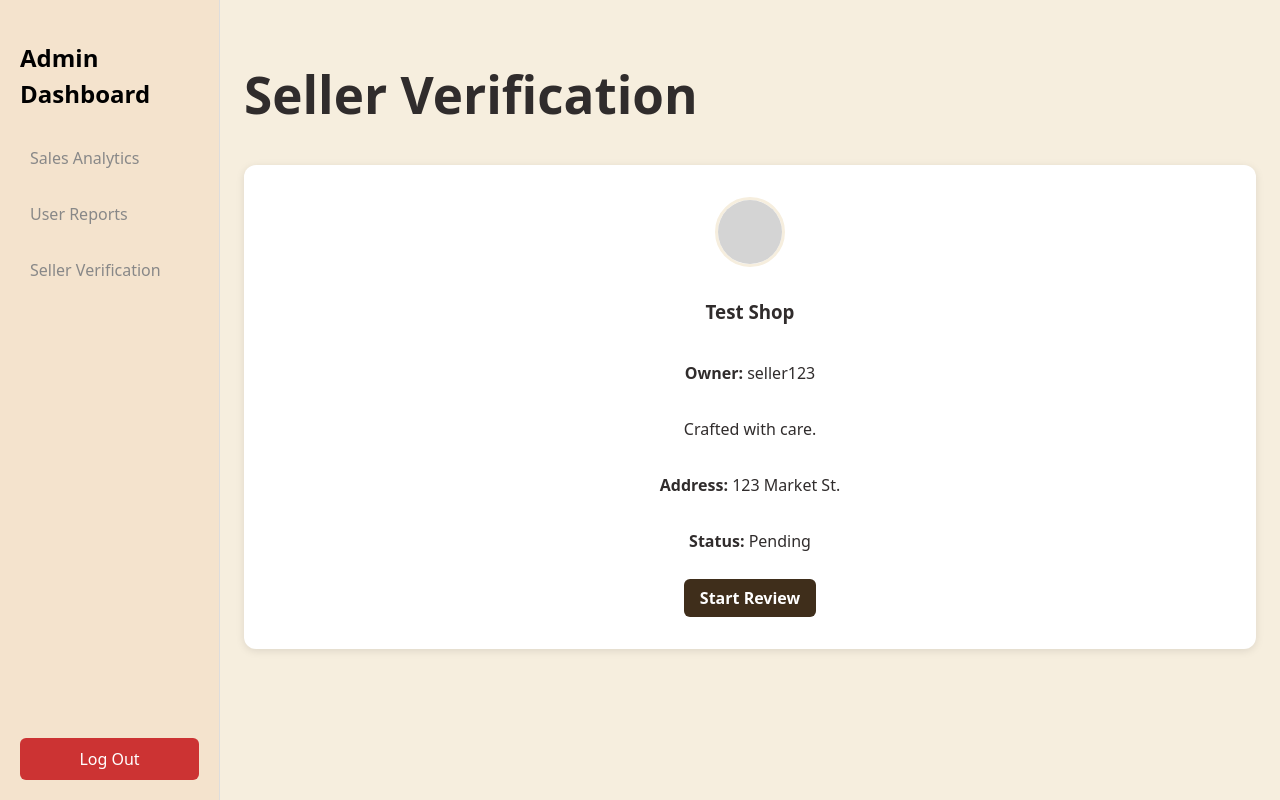
it: when you press the Start Review button, it shows Approve and Reject buttons
# Wait for seller card to appear and click the button
Click the button "Start Review".
click(750, 598)  # box [684,579,816,617]
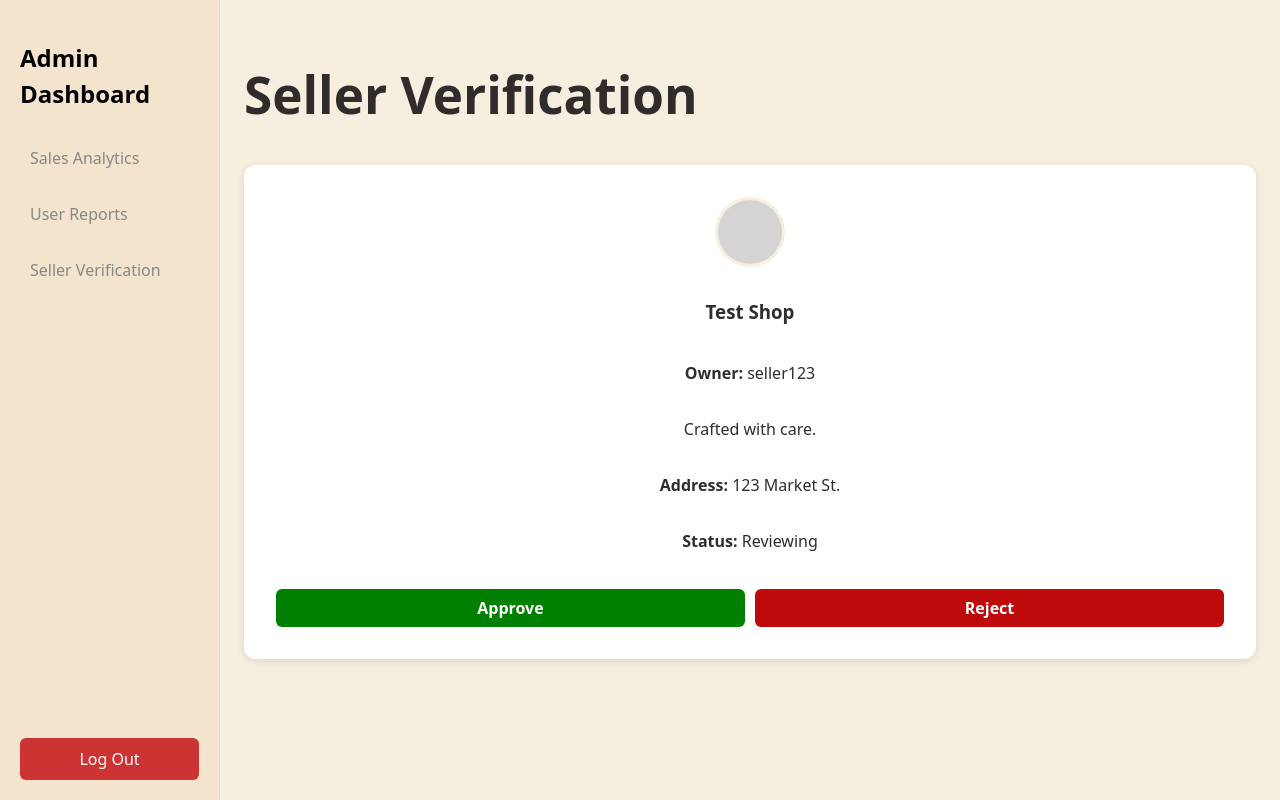
expect the button "Approve" is shown: met, box [276,589,745,627]
expect the button "Reject" is shown: met, box [755,589,1224,627]
